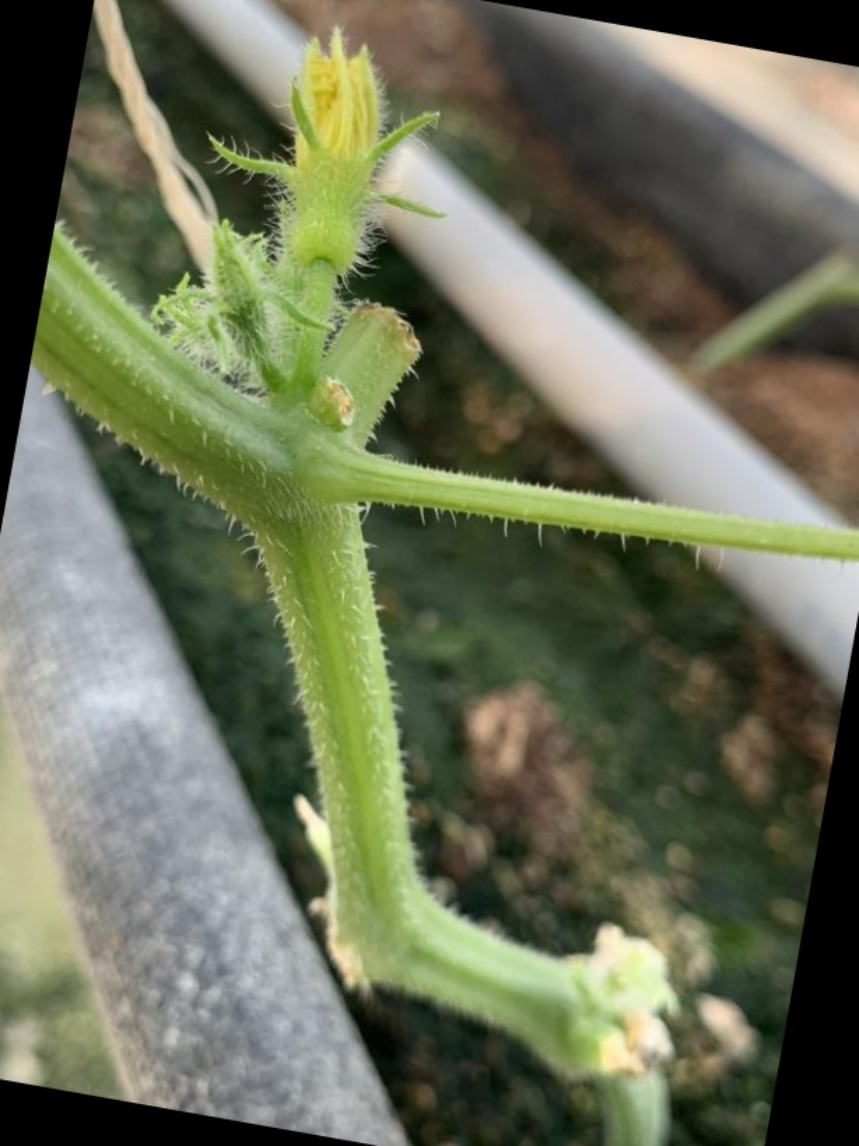bud: (236, 17, 437, 290)
